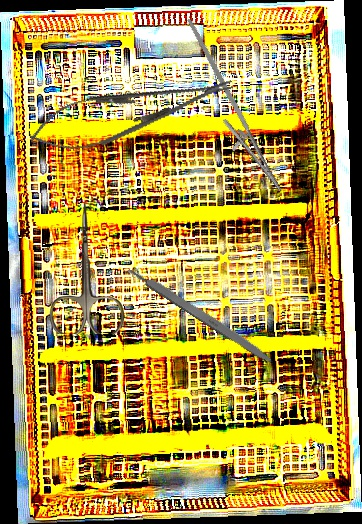Iris Scissors: (49, 202, 124, 334)
Needle Holder: (155, 17, 302, 201), (24, 60, 239, 164)
Scalpel Handle: (126, 263, 278, 367)
